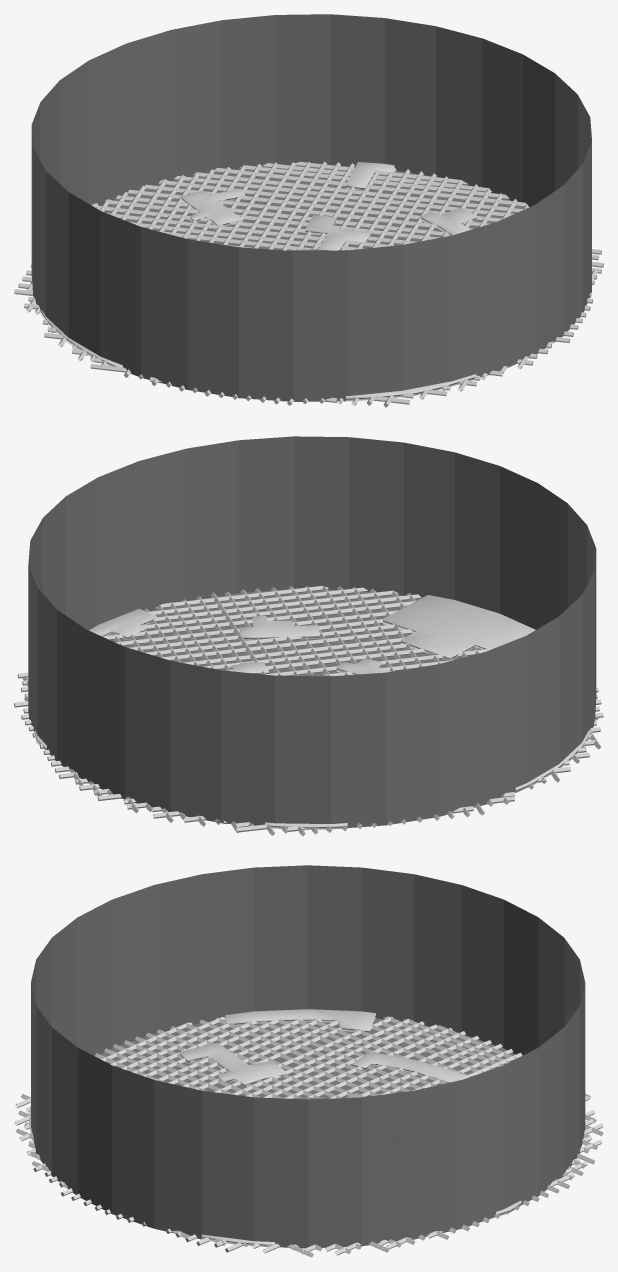
The model's file is piattaforme.fbx.
3 views of the same model, one above another, from view 1: azimuth 30°, elevation 25°; view 2: azimuth 150°, elevation 25°; view 3: azimuth 270°, elevation 25° (orthographic). The views are drawn at different scales.
Visible parts, largest first — view 1: ambiente, griglia, piattaforma_13; view 2: ambiente, griglia, piattaforma_13; view 3: ambiente, griglia, piattaforma_13.
Part boxes in pixels (<box>): ambiente: <box>31,14,591,401</box>; griglia: <box>14,161,603,407</box>; piattaforma_13: <box>41,162,476,401</box>; ambiente: <box>28,436,596,827</box>; griglia: <box>14,586,603,836</box>; piattaforma_13: <box>34,595,591,829</box>; ambiente: <box>31,865,585,1248</box>; griglia: <box>14,1016,603,1257</box>; piattaforma_13: <box>29,1009,521,1246</box>.
Bounding box in the file's own units: 4793 × 1350 × 4791.
